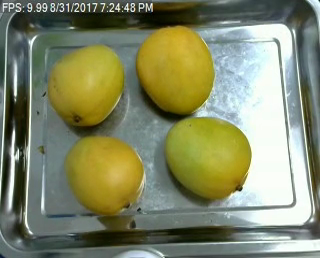Mango: (165, 115, 252, 199), (136, 26, 212, 113), (63, 132, 144, 213), (46, 45, 123, 126)
